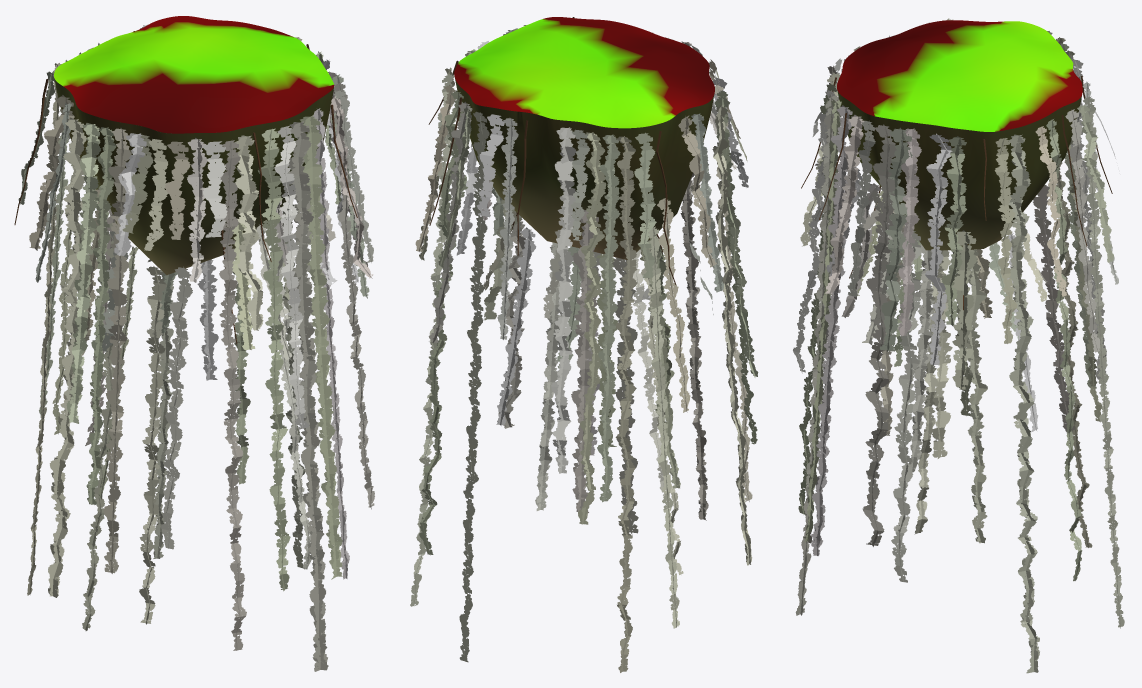
File: SM_H13_Floater03.fbx
3 views of the same model, side by side, from view 1: azimuth 30°, elevation 25°; view 2: azimuth 150°, elevation 25°; view 3: azimuth 270°, elevation 25° (orthographic). The views are drawn at different scales.
Visible parts, largest first — view 1: SM_H13_Floater03_Ivy, SM_H13_Floater03; view 2: SM_H13_Floater03_Ivy, SM_H13_Floater03; view 3: SM_H13_Floater03_Ivy, SM_H13_Floater03.
Part boxes in pixels (bbox=[...]): SM_H13_Floater03_Ivy: bbox=[14, 24, 374, 671]; SM_H13_Floater03: bbox=[54, 16, 334, 275]; SM_H13_Floater03_Ivy: bbox=[410, 17, 758, 672]; SM_H13_Floater03: bbox=[454, 17, 714, 259]; SM_H13_Floater03_Ivy: bbox=[793, 18, 1124, 673]; SM_H13_Floater03: bbox=[837, 20, 1082, 250].
Bounding box in the file's own units: 17.91 × 30.76 × 17.16.
